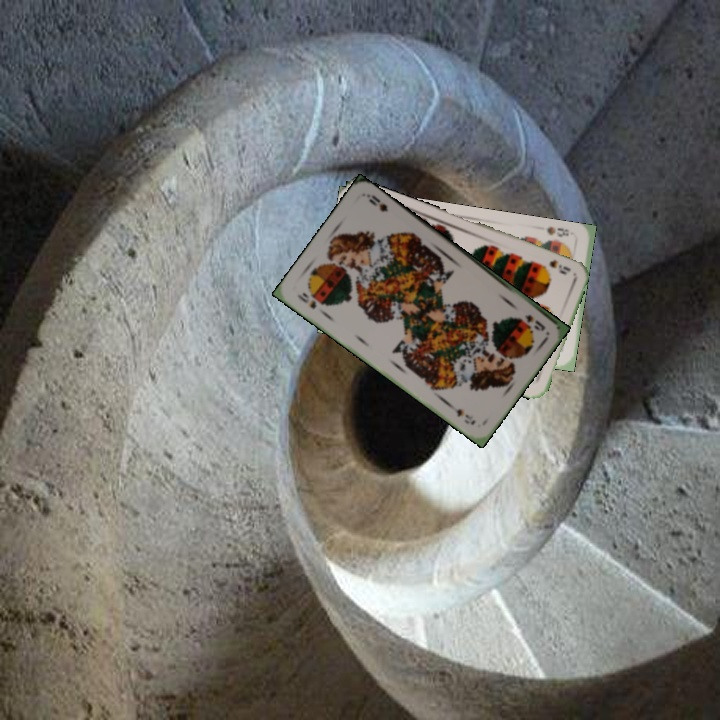S8: (543, 222, 572, 240)
S9: (545, 255, 573, 277)
SO: (293, 288, 319, 312), (521, 311, 548, 334)
